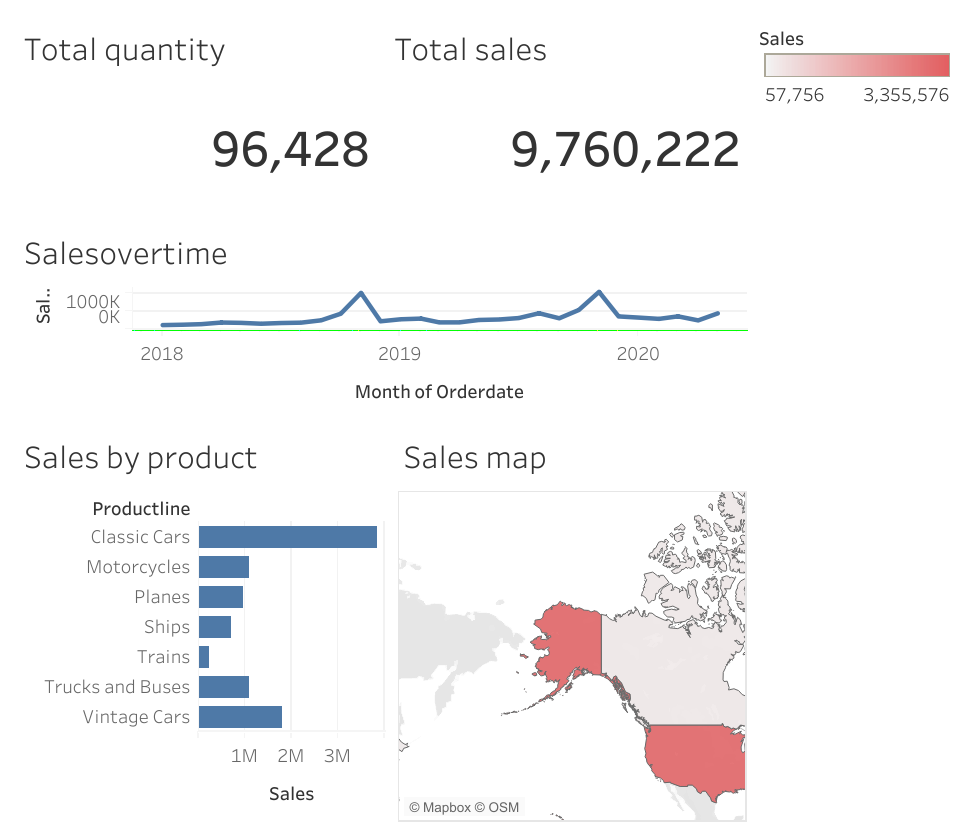

Layout of this report page (visuals, bound fields, positions):
{"tool":"tableau","page":{"name":"Dashboard 1","canvas":[650,860],"ordinal":0},"visuals":[{"type":"worksheet","title":"Total quantity","mark":"Automatic","box":[8,10.2,247,209.9]},{"type":"worksheet","title":"Total sales","mark":"Automatic","box":[255,10.2,247,209.9]},{"type":"legend","title":"Sales map","param":"[federated.0183sl70n6hyp310kbtii1ax78fd].[sum:SALES:qk]","box":[502,10.2,140,103.5]},{"type":"worksheet","title":"Salesovertime","mark":"Automatic","rows":["SALES"],"cols":["ORDERDATE"],"box":[8,220.1,494,209.9]},{"type":"worksheet","title":"Sales by product","mark":"Automatic","rows":["PRODUCTLINE"],"cols":["SALES"],"box":[8,430,253,419.8]},{"type":"worksheet","title":"Sales map","mark":"Automatic","box":[261,430,241,419.8]}]}

Visuals, with their boxes on the page's 650x860 design canvas (x1, y1, x2, y2). These are canvas units, not pixel positions in the 974x839 screenshot, which may show the page scaled, cropped or inside an application window:
"Total quantity" worksheet: [x1=8, y1=10, x2=255, y2=220]
"Total sales" worksheet: [x1=255, y1=10, x2=502, y2=220]
"Sales map" legend: [x1=502, y1=10, x2=642, y2=114]
"Salesovertime" worksheet: [x1=8, y1=220, x2=502, y2=430]
"Sales by product" worksheet: [x1=8, y1=430, x2=261, y2=850]
"Sales map" worksheet: [x1=261, y1=430, x2=502, y2=850]
